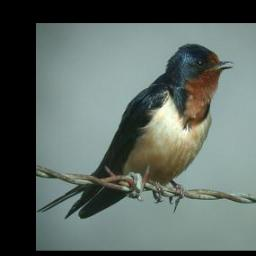Swallow: (36, 43, 234, 219)
